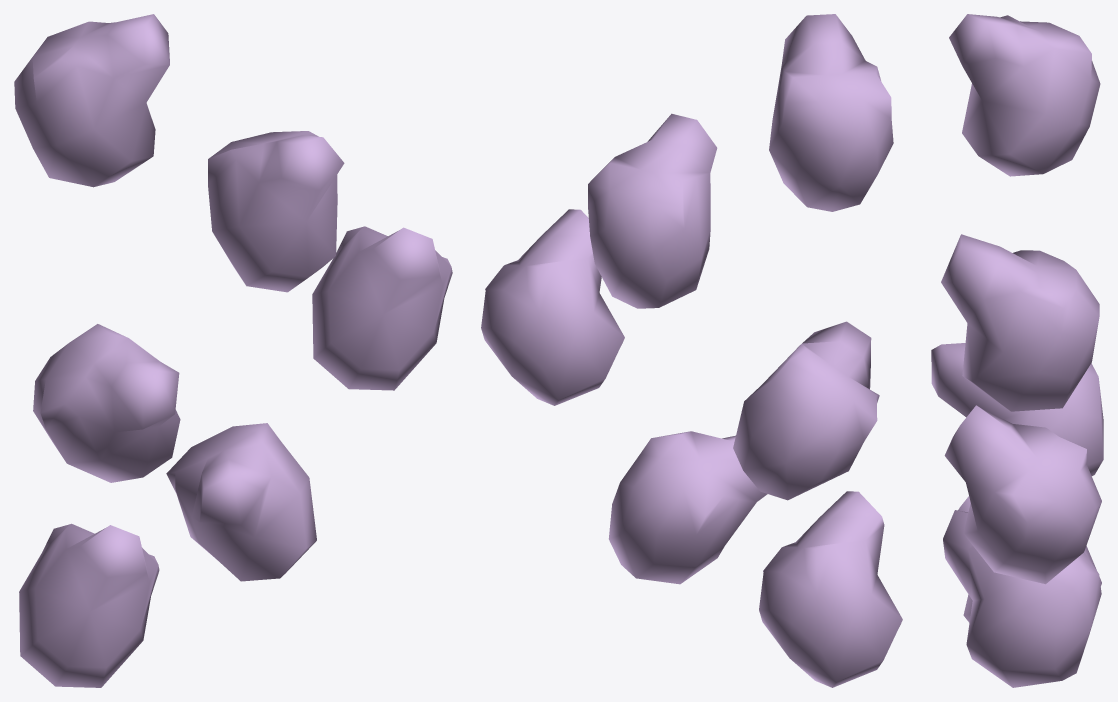
3 renders of one model, left to right at view 1: azimuth 30°, elevation 25°; view 2: azimuth 150°, elevation 25°; view 3: azimuth 270°, elevation 25°, orthographic. The views are drawn at different scales.
Parts seen in each view (by area): view 1: Object47; view 2: Object47; view 3: Object47.
Part boxes in pixels (x1,y1,x2,y2): Object47: [14, 14, 452, 687]; Object47: [481, 14, 902, 687]; Object47: [931, 14, 1103, 687].
Bounding box in the file's own units: 7157 × 10723 × 2529.
